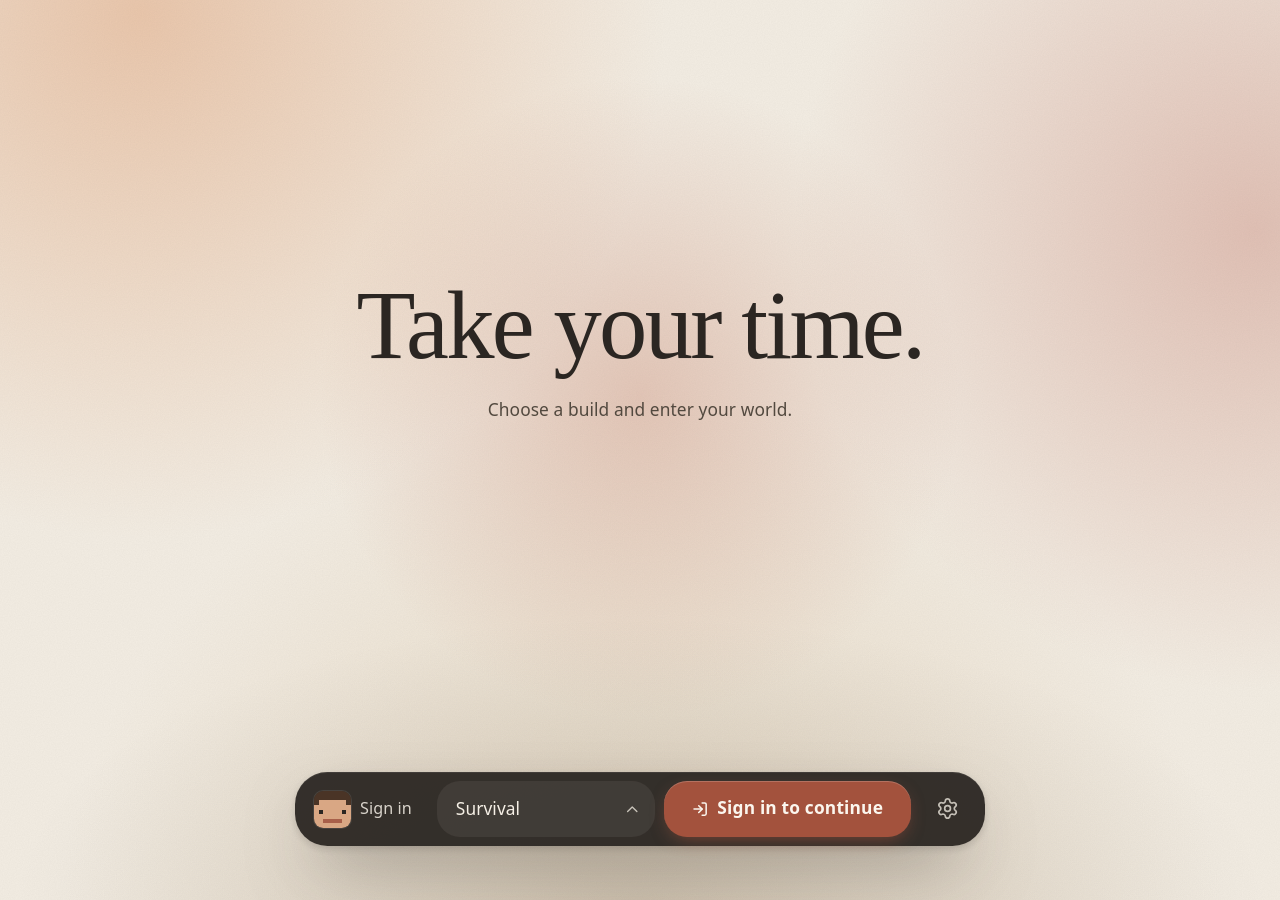
without an account that can play › signing in updates the dock at once, without restarting
Click the button "Sign in to continue" at (787, 809), box x1=664 y1=781 x2=911 y2=837
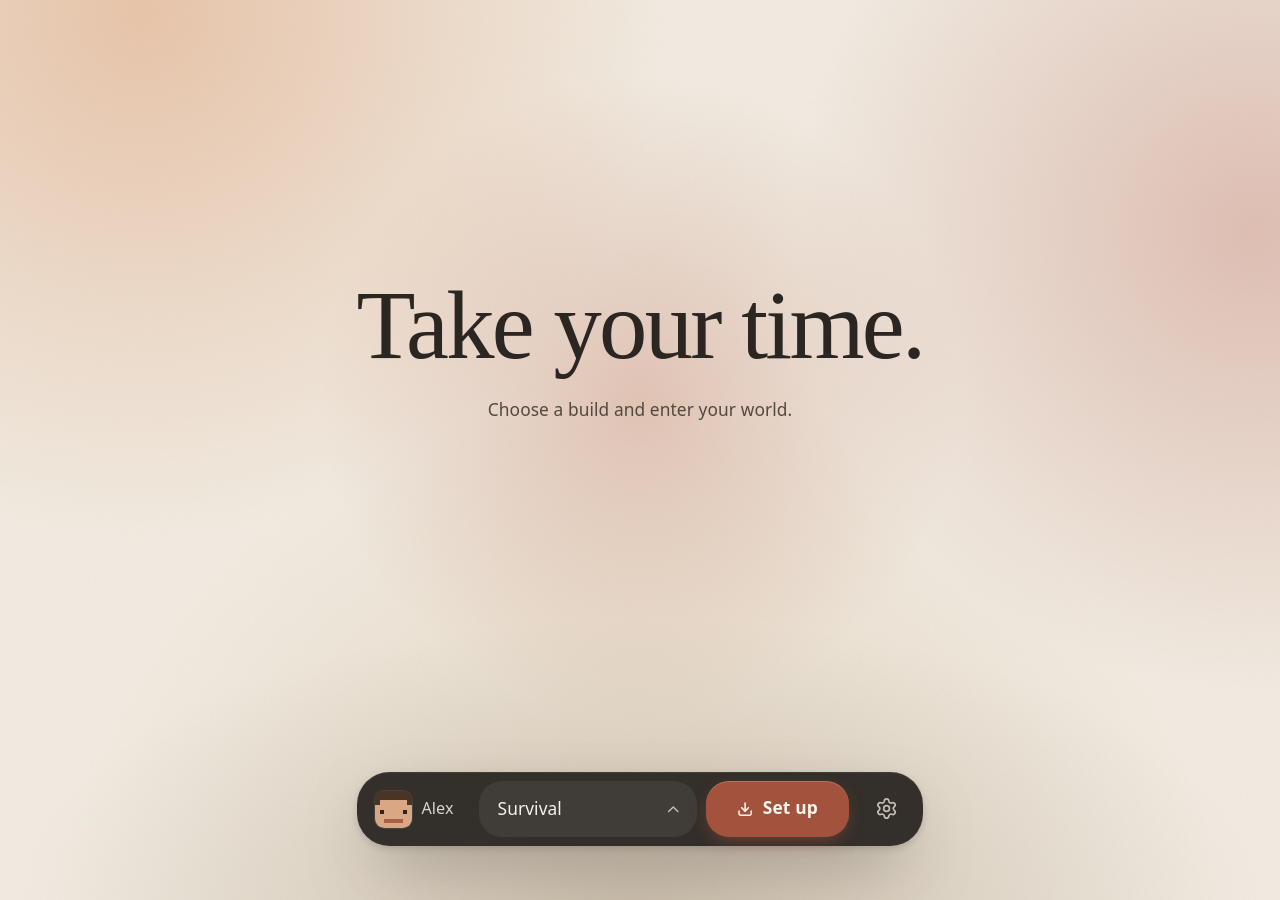
Expected: the button "Set up" is shown, x1=706 y1=781 x2=849 y2=837
Expected: the button "Sign in to continue" is gone
